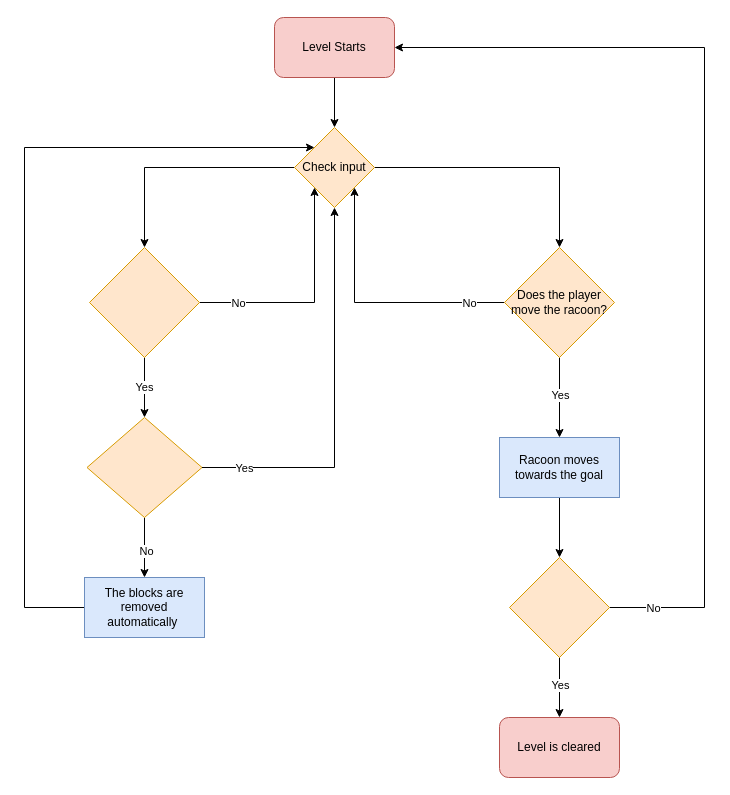
The diagram is 730 pixels wide and 795 high, and some of its shapes have lost their labels. The shapes that lost their labels are listed below. From the top down, each one's centre as x and y in pixels, then its label:
At (144,302): "Does the player place the blocks?".
At (144,467): "Are the blocks placed correctly?".
At (559,607): "Can the racoon get to the goal?".
